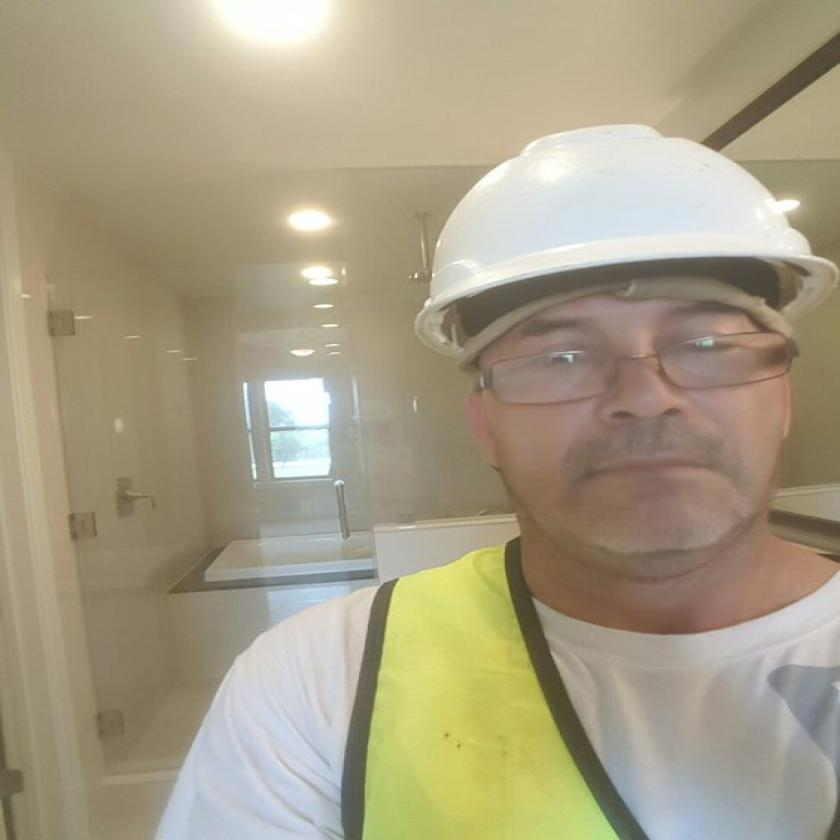Con_casco: (368, 90, 840, 577)
